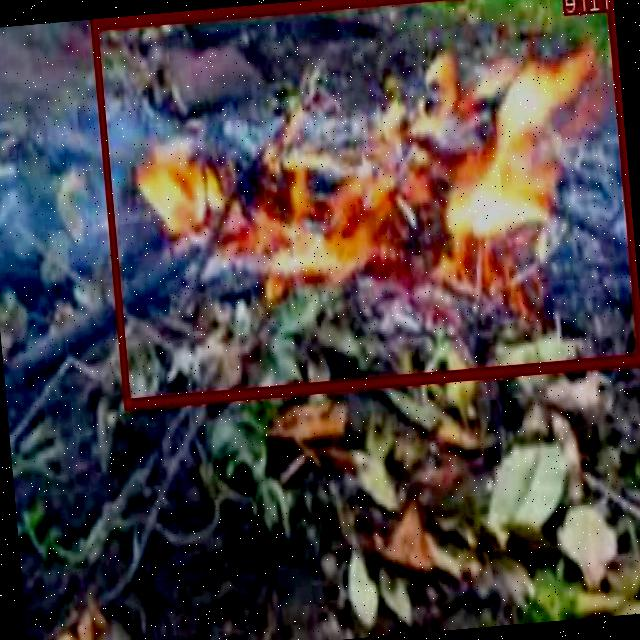fire: (92, 0, 640, 405)
